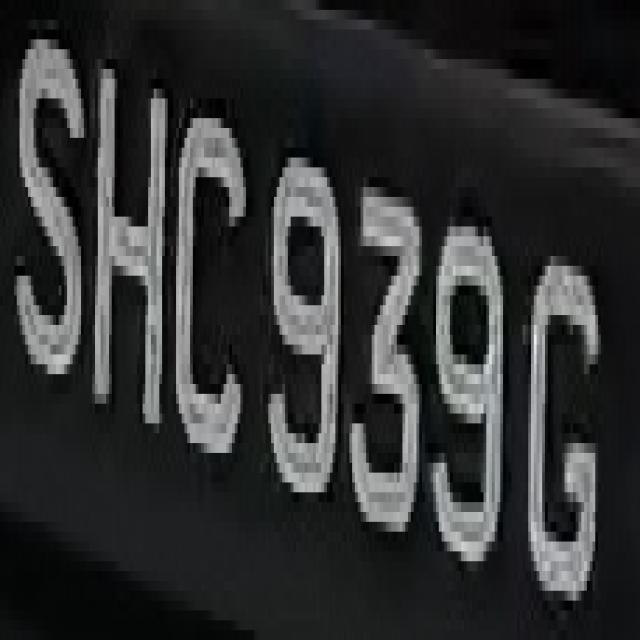3: (338, 128, 425, 532)
9: (419, 138, 506, 610), (254, 108, 350, 512)
C: (168, 59, 254, 473)
G: (517, 197, 609, 620)
H: (84, 20, 165, 462)
S: (8, 0, 87, 443)
